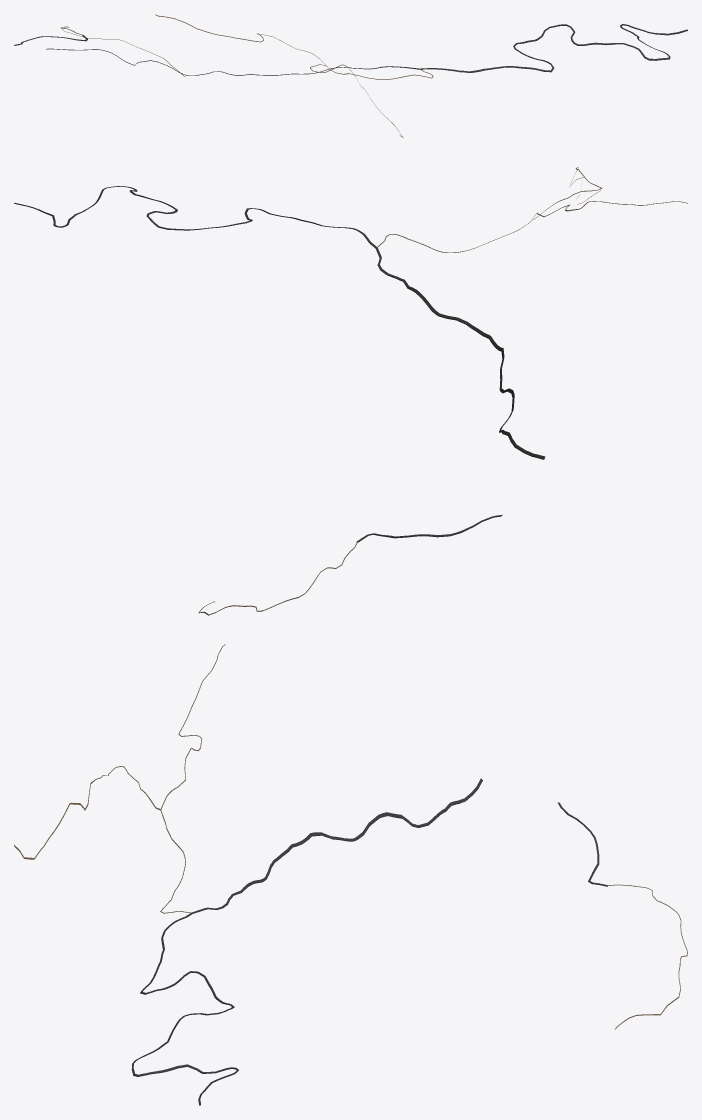
3 renders of one model, top to bottom at view 1: azimuth 30°, elevation 25°; view 2: azimuth 150°, elevation 25°; view 3: azimuth 270°, elevation 25°, orthographic. The views are drawn at different scales.
Size of the model in its own units: 1174 by 496 by 1111.
